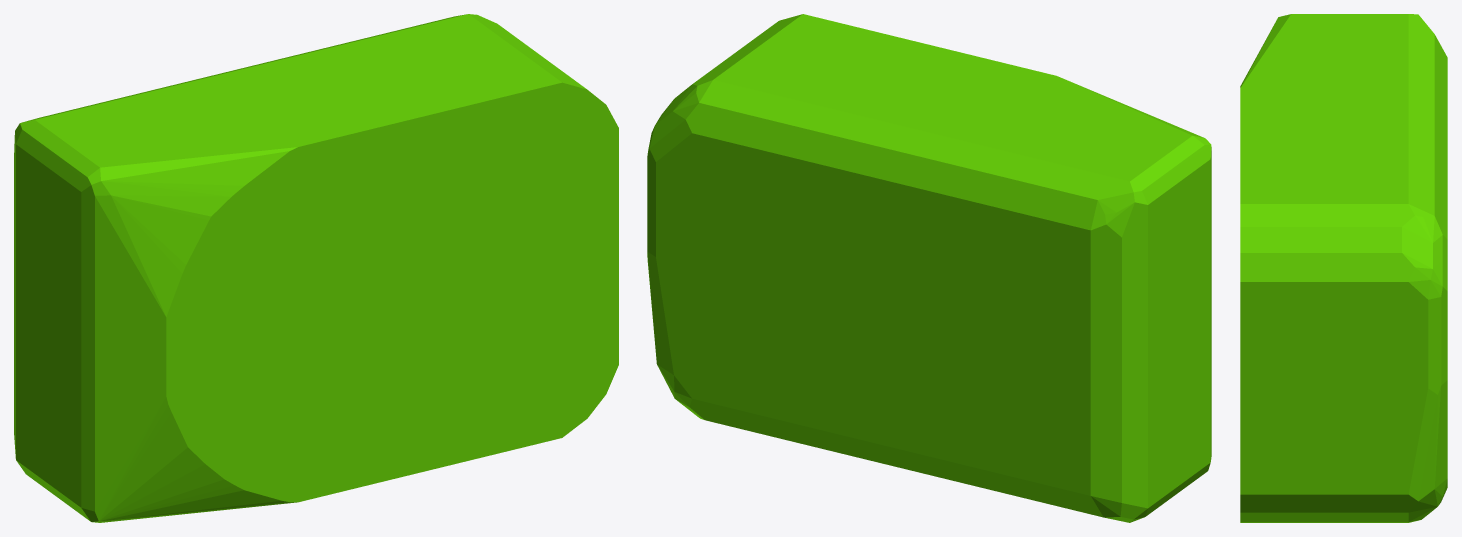
Rendered from model0_convex_piece_003.obj.
The picture shows the model from 3 angles, left to right: view 1: azimuth 30°, elevation 25°; view 2: azimuth 150°, elevation 25°; view 3: azimuth 270°, elevation 25°; orthographic projection. The views are drawn at different scales.
Bounding box in the file's own units: 0.0188 × 0.0125 × 0.00738.
